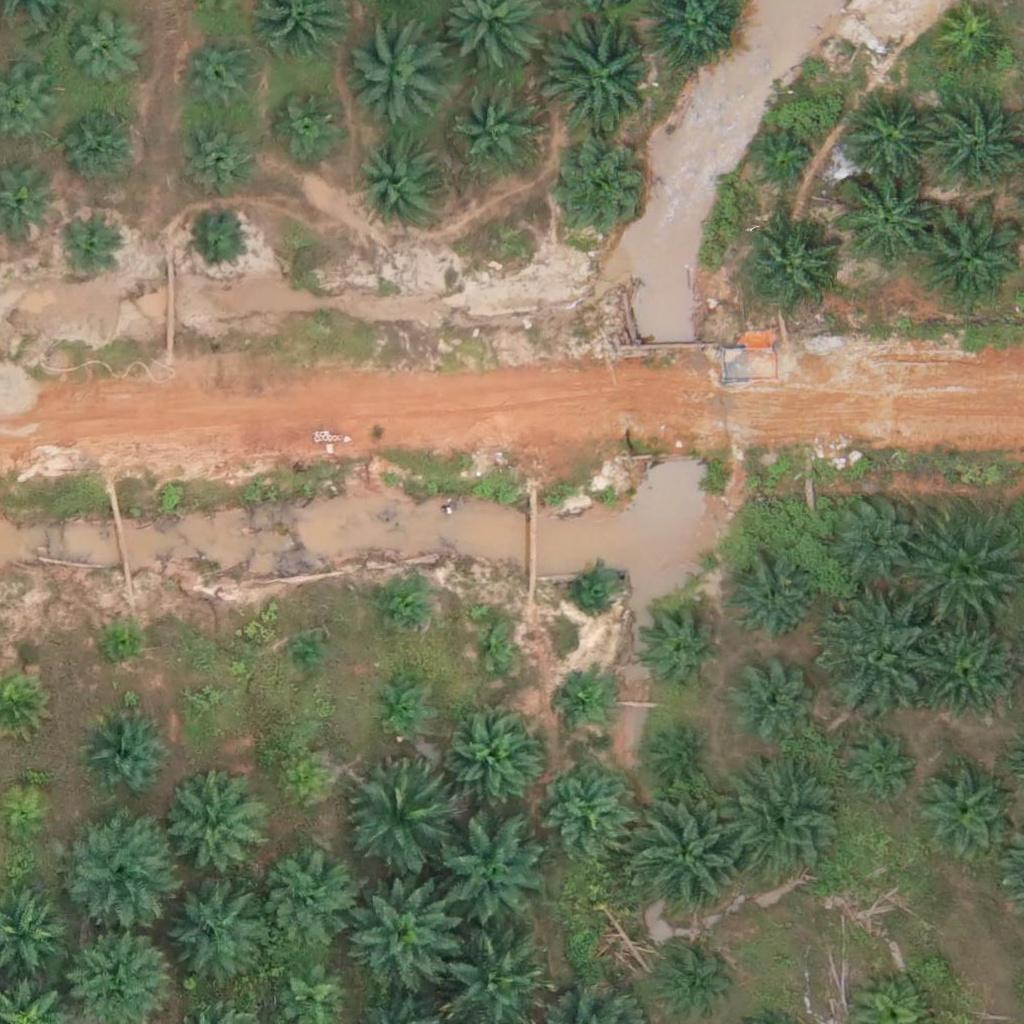Kelapa_Sawit: (727, 770, 840, 884), (632, 793, 745, 906), (431, 817, 544, 930), (340, 757, 453, 870), (345, 889, 458, 1002), (61, 812, 173, 926), (909, 520, 1021, 633), (819, 599, 931, 712), (546, 17, 658, 130), (915, 618, 1015, 719), (821, 485, 921, 586), (168, 780, 268, 881), (839, 90, 939, 191), (741, 216, 841, 317), (549, 144, 649, 245), (916, 760, 1016, 860), (447, 709, 547, 809), (262, 850, 362, 950), (169, 887, 269, 987), (834, 170, 934, 270), (348, 23, 448, 123), (81, 709, 169, 797), (170, 114, 258, 202), (727, 556, 814, 645), (834, 726, 921, 814), (727, 655, 814, 743), (543, 759, 630, 847), (637, 603, 724, 691), (455, 89, 542, 177), (357, 138, 444, 226), (180, 33, 267, 121), (63, 16, 138, 92), (65, 104, 140, 180), (271, 86, 346, 161), (655, 940, 730, 1015), (932, 4, 1007, 79), (747, 128, 822, 203), (54, 212, 117, 275), (187, 208, 249, 271), (559, 672, 609, 723), (566, 562, 616, 612), (657, 731, 707, 781), (469, 625, 519, 675), (377, 579, 427, 629), (372, 682, 422, 732), (286, 640, 324, 678), (100, 624, 137, 662), (276, 759, 313, 796), (189, 687, 214, 713)
